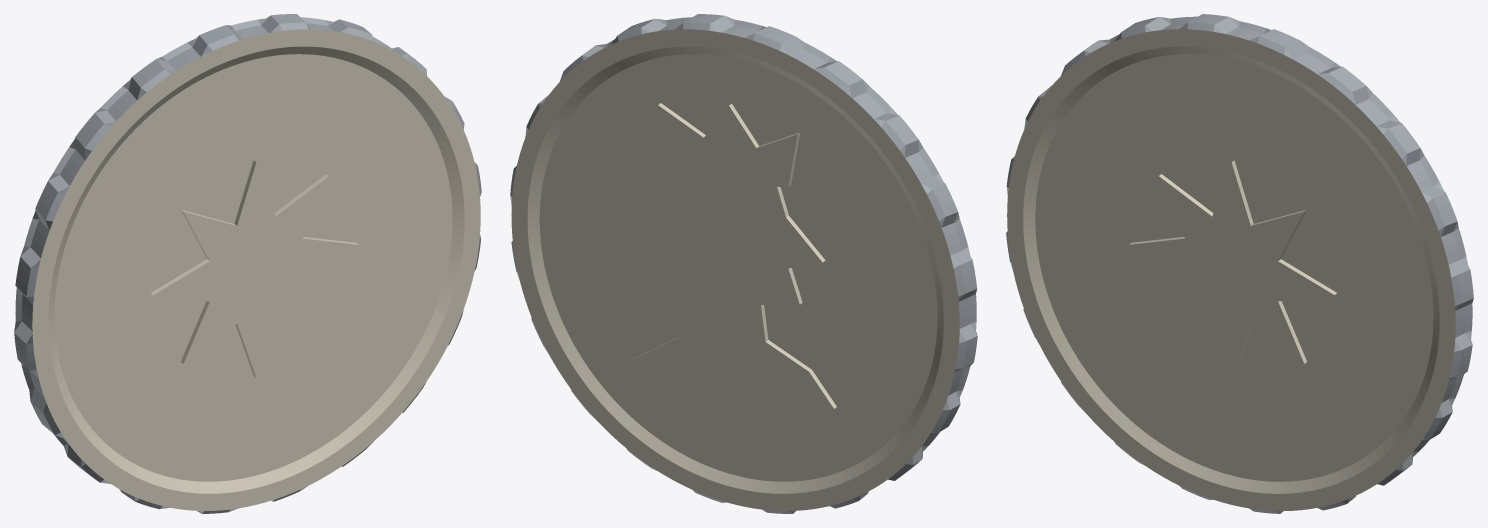
Rendered from coin-milled.glb.
The picture shows the model from 3 angles, left to right: view 1: azimuth 30°, elevation 25°; view 2: azimuth 150°, elevation 25°; view 3: azimuth 330°, elevation 25°; orthographic projection.
Visible parts, largest first — view 1: Coin field, coin-milled, Stamped relief.001, bite; view 2: coin-milled, Coin field, Stamped relief, bite; view 3: Coin field, coin-milled, Stamped relief.001, bite.
Boxes of the visible parts, bbox=[...] form: Coin field: bbox=[82, 83, 424, 452]; coin-milled: bbox=[14, 14, 481, 513]; Stamped relief.001: bbox=[151, 160, 358, 377]; bite: bbox=[392, 88, 481, 225]; coin-milled: bbox=[511, 14, 977, 513]; Coin field: bbox=[567, 83, 910, 452]; Stamped relief: bbox=[633, 103, 836, 408]; bite: bbox=[510, 88, 599, 225]; Coin field: bbox=[1062, 83, 1405, 452]; coin-milled: bbox=[1006, 14, 1472, 513]; Stamped relief.001: bbox=[1129, 160, 1336, 377]; bite: bbox=[1373, 164, 1473, 324].
Size of the model in its own units: 0.0389 by 0.0389 by 0.0025.
